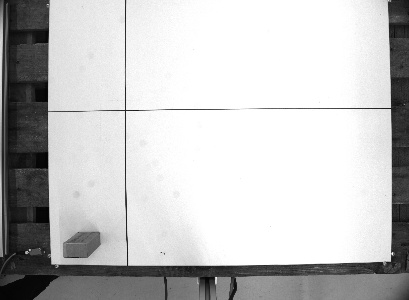b1: (60, 229, 103, 259)
